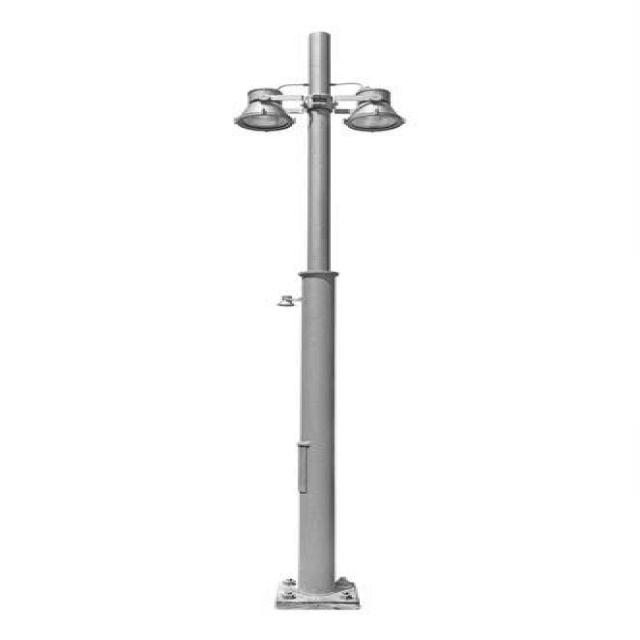Pole: (236, 31, 404, 611)
